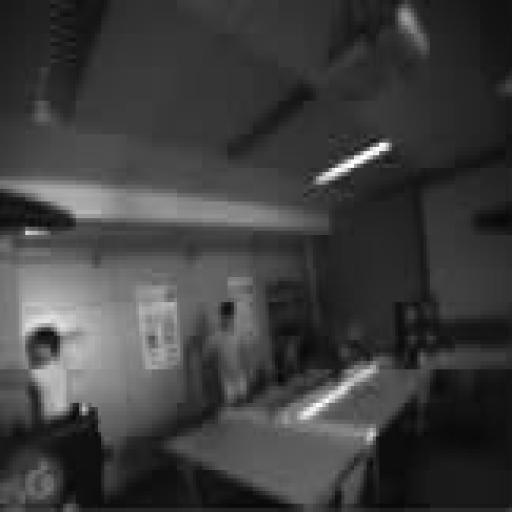human: (209, 303, 249, 407), (26, 328, 69, 423)
